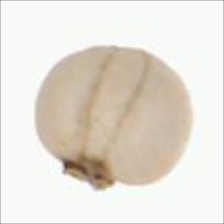L5: (80, 47, 151, 163), (54, 147, 137, 204), (110, 41, 166, 66)
L6: (30, 42, 198, 197)
